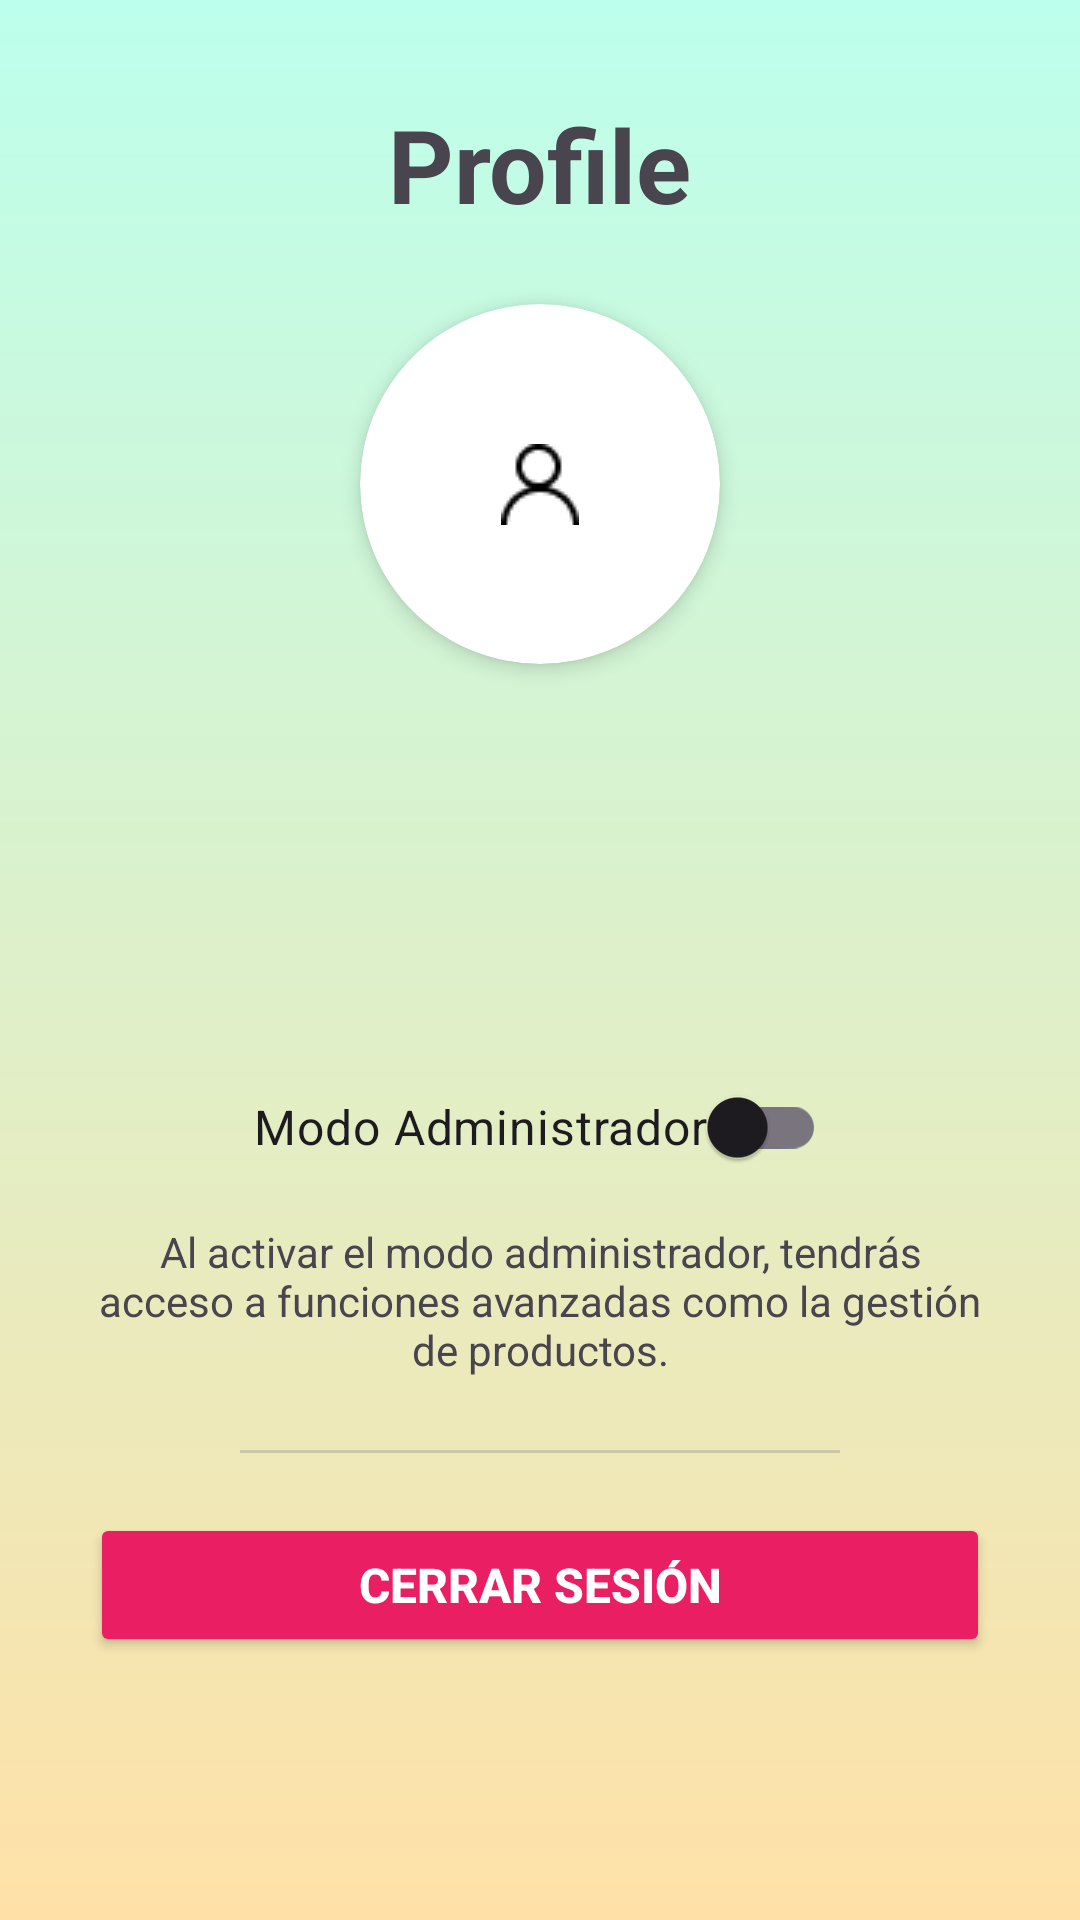

Point at icon controls on the screen. Image size 1080 × 1920, points as (x=x, y=y).
Foto de Perfil: (x=540, y=484)
